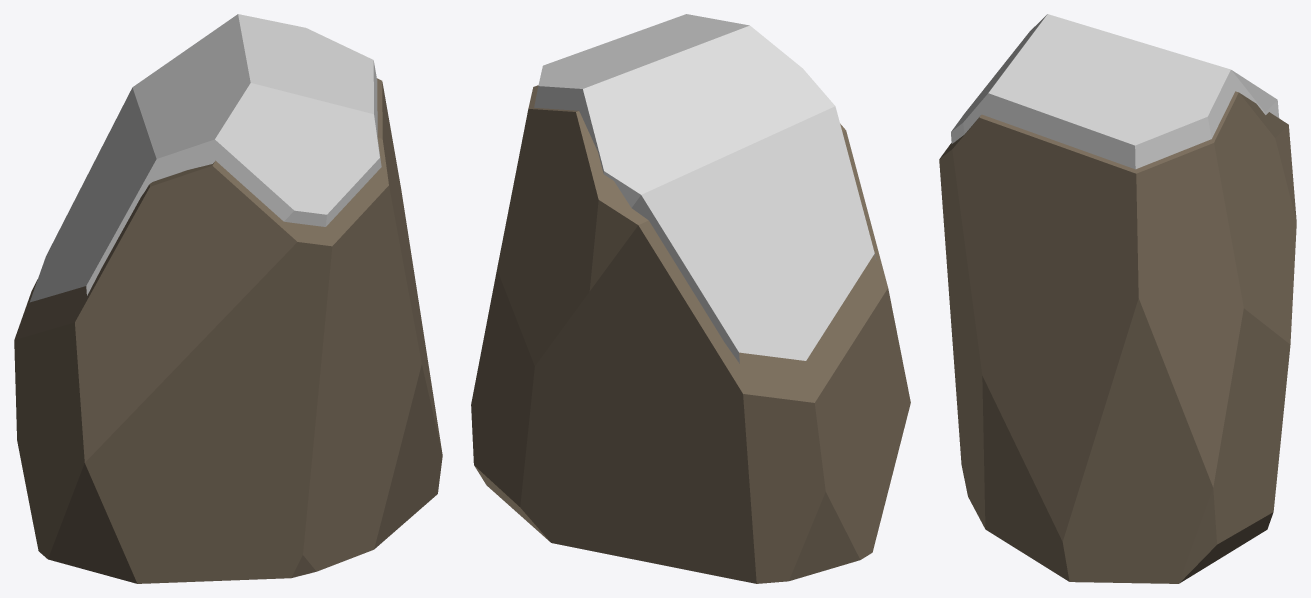
The model's file is Stone_5_snow_brown_mat.fbx.
The picture shows the model from 3 angles, left to right: view 1: azimuth 30°, elevation 25°; view 2: azimuth 150°, elevation 25°; view 3: azimuth 270°, elevation 25°; orthographic projection. The views are drawn at different scales.
Visible parts, largest first — view 1: Stone_5_snow_brown_mat; view 2: Stone_5_snow_brown_mat; view 3: Stone_5_snow_brown_mat.
Part boxes in pixels (x1=…): Stone_5_snow_brown_mat: x1=14, y1=14, x2=442, y2=583; Stone_5_snow_brown_mat: x1=471, y1=14, x2=910, y2=583; Stone_5_snow_brown_mat: x1=939, y1=14, x2=1296, y2=583.
Size of the model in its own units: 83.72 by 102 by 70.29.
